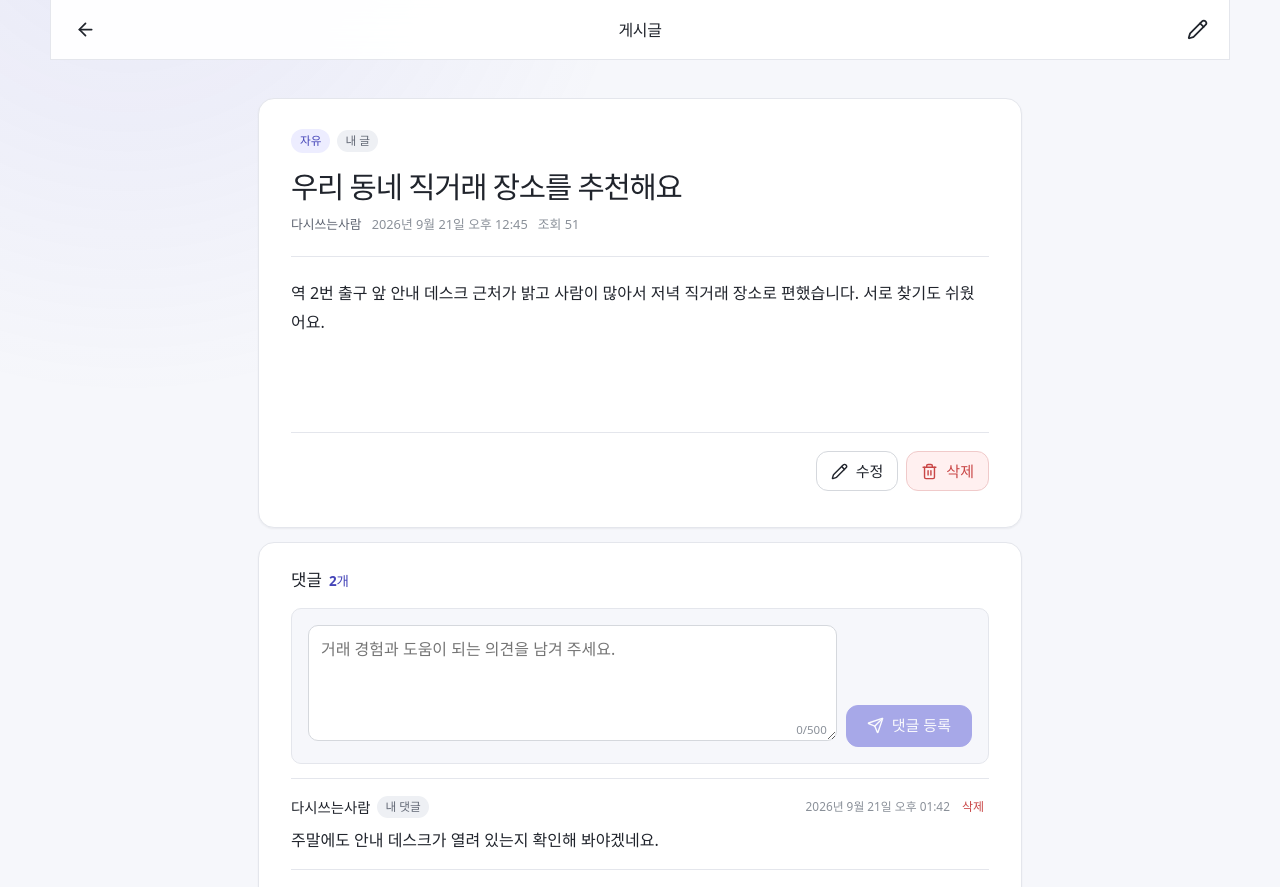
Test: 커뮤니티 게시판 › 댓글 등록 오류에는 초안을 보존하고 등록·삭제 후 최신 목록을 갱신한다
Type "저녁에도 밝아서 만나기 좋았습니다." into the text box named "댓글".
click(572, 683); type("저녁에도 밝아서 만나기 좋았습니다.")  # box [308,625,837,741]
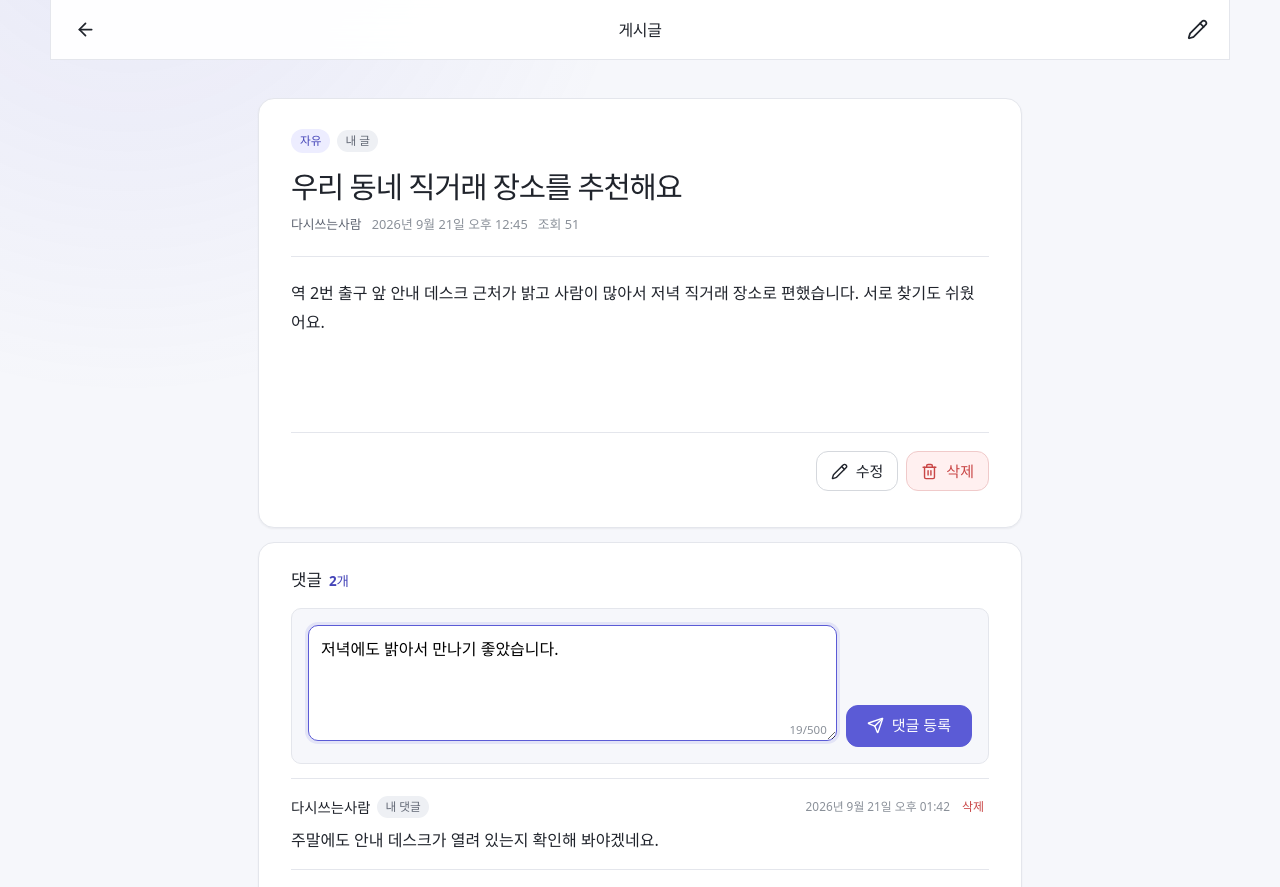
Click the button "댓글 등록".
click(909, 726)  # box [846,705,972,747]
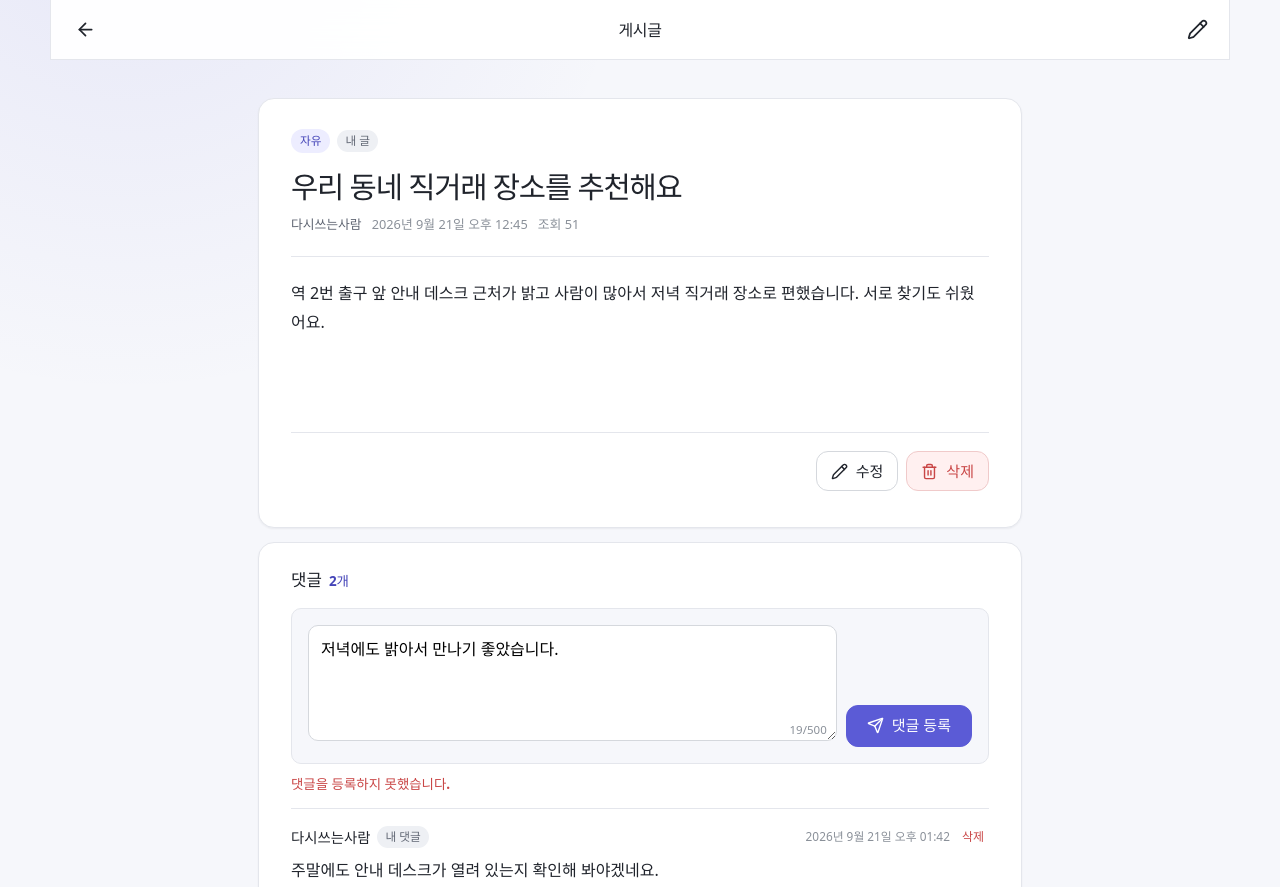
Expected: the message reads "댓글을 등록하지 못했습니다.", [291,775,450,793]
Click the button "댓글 등록".
click(909, 726)  # box [846,705,972,747]
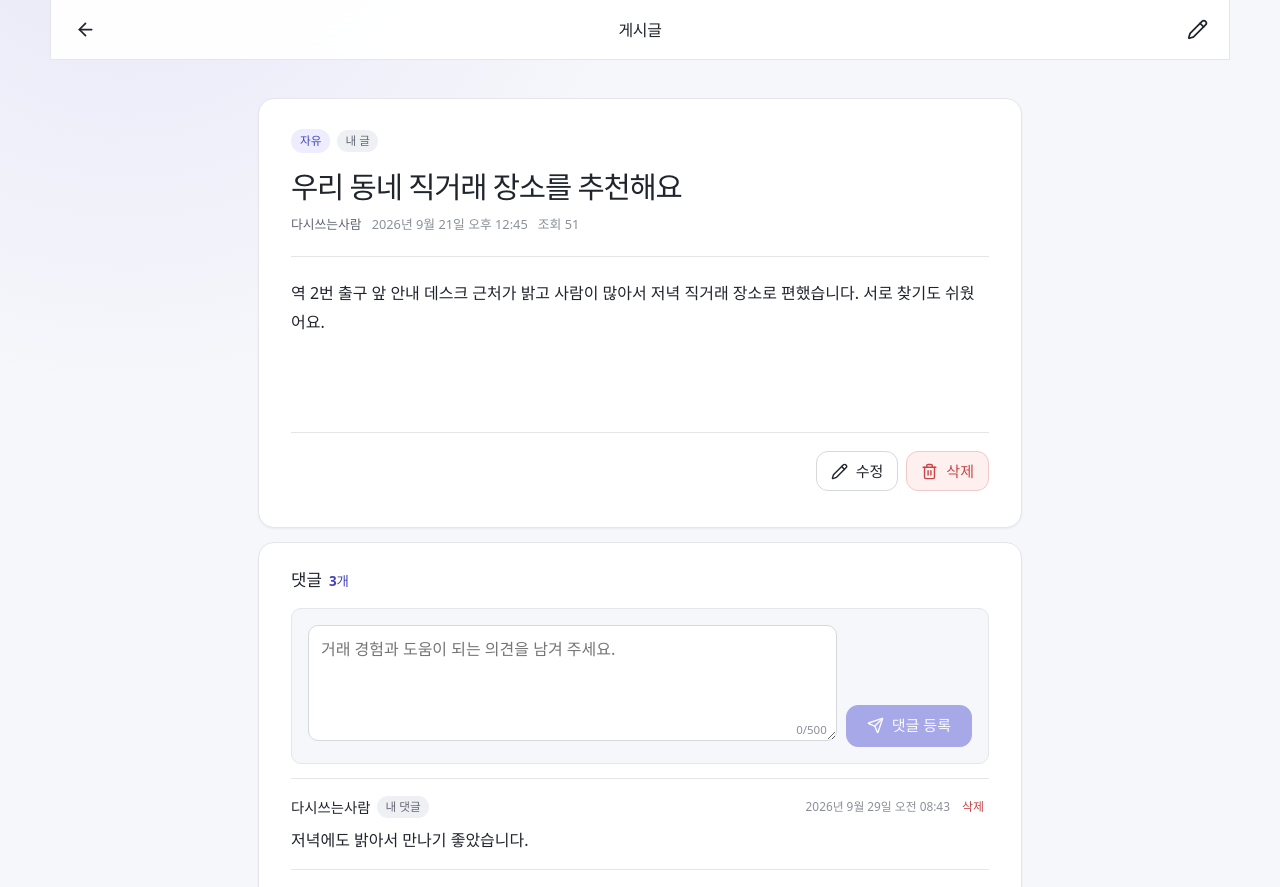
Expected: the text box named "댓글" is empty, [308,625,837,741]
Expected: the list item "저녁에도 밝아서 만나기 좋았습니다." is shown, [291,829,529,851]
Click the button with aria-label "다시쓰는사람 댓글 삭제".
click(973, 807)  # box [957,795,989,819]
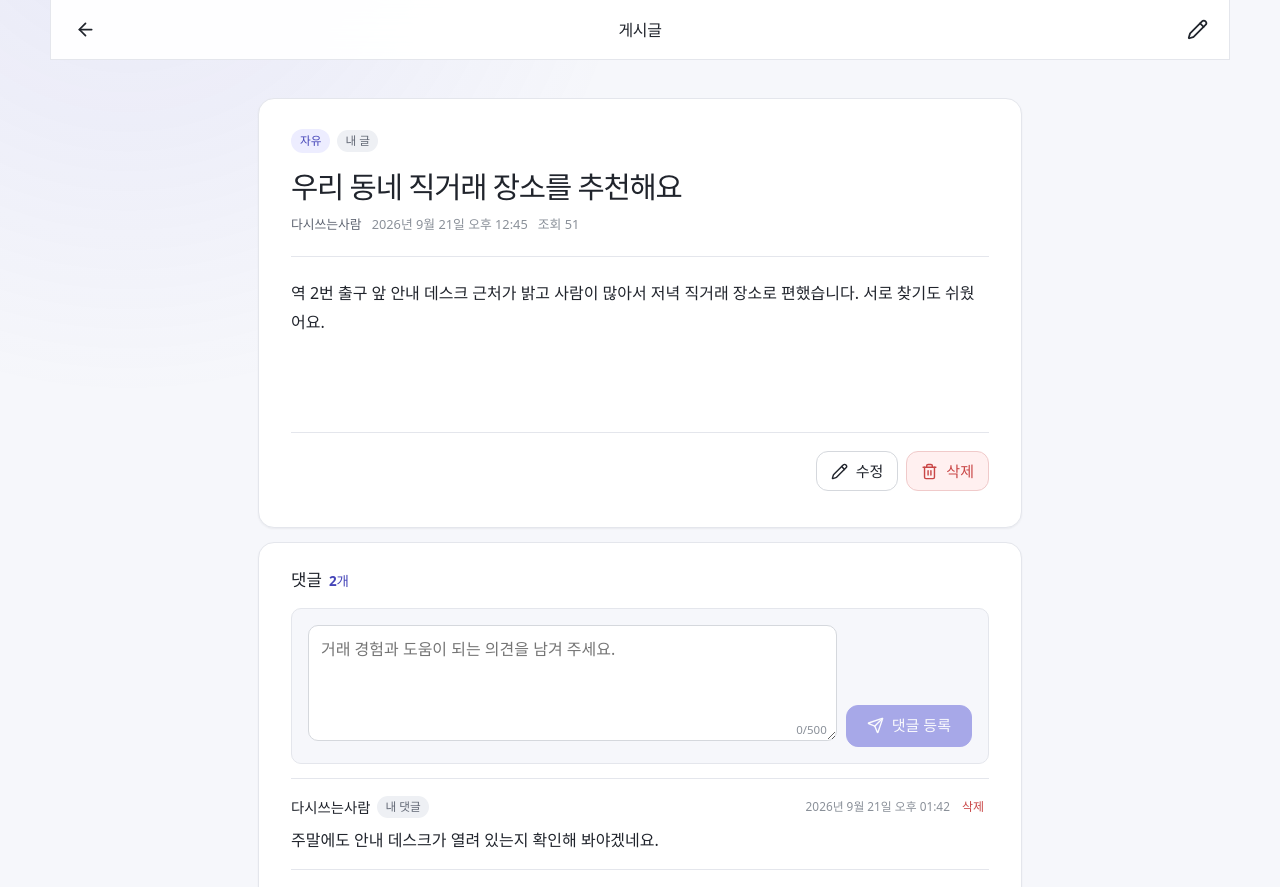
Expected: the text "저녁에도 밝아서 만나기 좋았습니다." is gone
